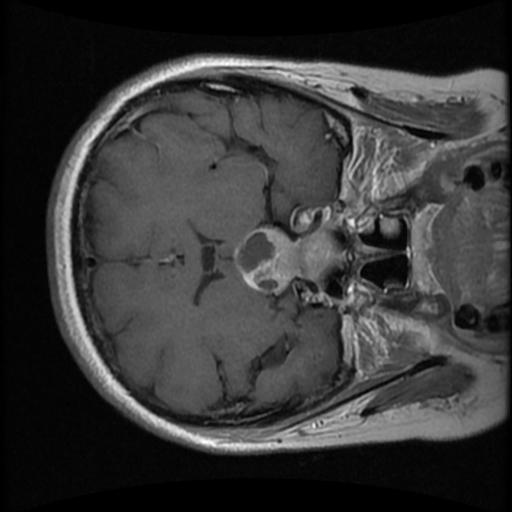pituitary tumour: (231, 226, 333, 293)
